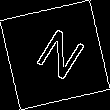N_SW: (24, 23, 86, 87)
